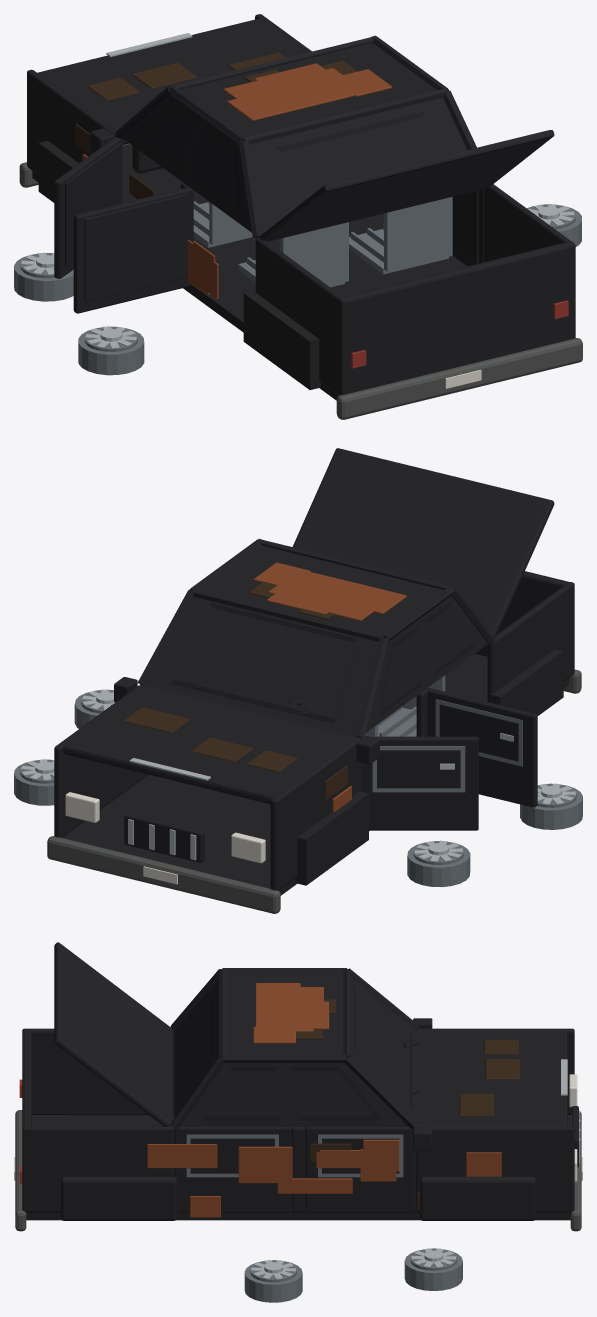
The model's file is car_jam_sedan_burnt.glb.
The picture shows the model from 3 angles, top to bottom: view 1: azimuth 30°, elevation 25°; view 2: azimuth 150°, elevation 25°; view 3: azimuth 270°, elevation 25°; orthographic projection. The views are drawn at different scales.
Parts seen in each view (by area): view 1: car_jam_sedan_burnt; view 2: car_jam_sedan_burnt; view 3: car_jam_sedan_burnt.
Boxes of the visible parts, x1,y1,x2,y2 form: car_jam_sedan_burnt: (14,14,582,419); car_jam_sedan_burnt: (14,448,582,913); car_jam_sedan_burnt: (14,942,582,1302).
Size of what is drawn, in the model's own units: 3.74 by 1.6 by 4.12.
Materials: 2 (2 with a texture image).
